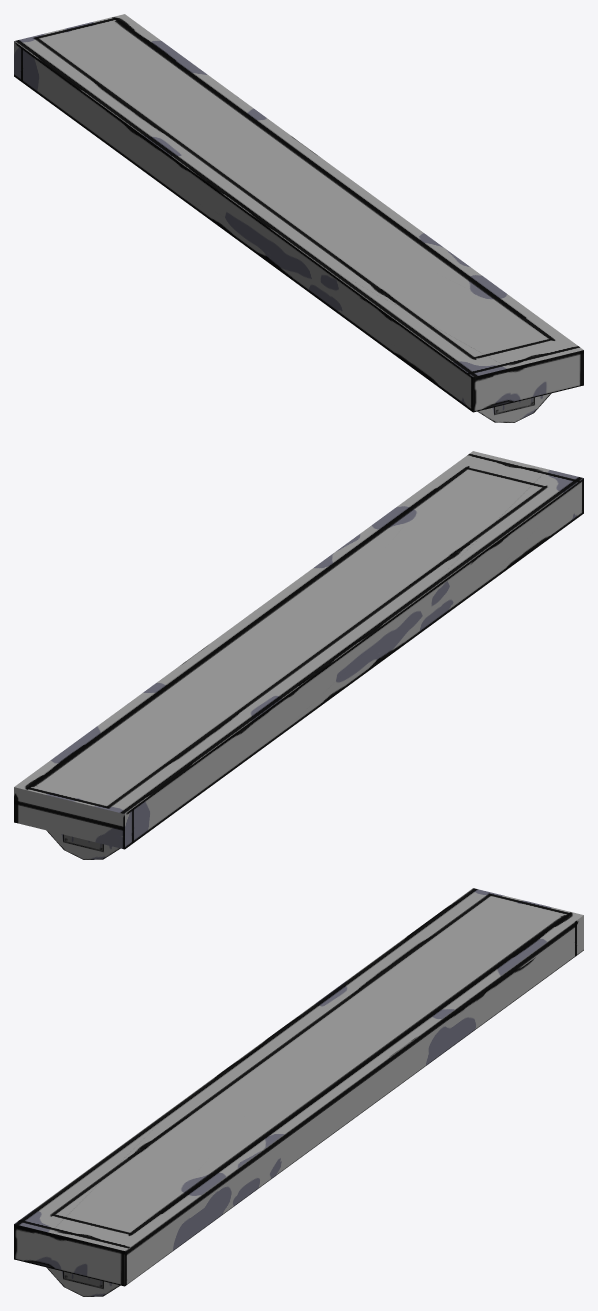
The model's file is NeonFlicker.fbx.
3 views of the same model, one above another, from view 1: azimuth 30°, elevation 25°; view 2: azimuth 150°, elevation 25°; view 3: azimuth 330°, elevation 25° (orthographic).
Parts seen in each view (by area): view 1: Neon; view 2: Neon; view 3: Neon.
Part boxes in pixels (<box>): Neon: <box>14,14,583,422</box>; Neon: <box>14,451,583,859</box>; Neon: <box>14,888,583,1296</box>.
Bounding box in the file's own units: 1 × 0.5996 × 7.17.
